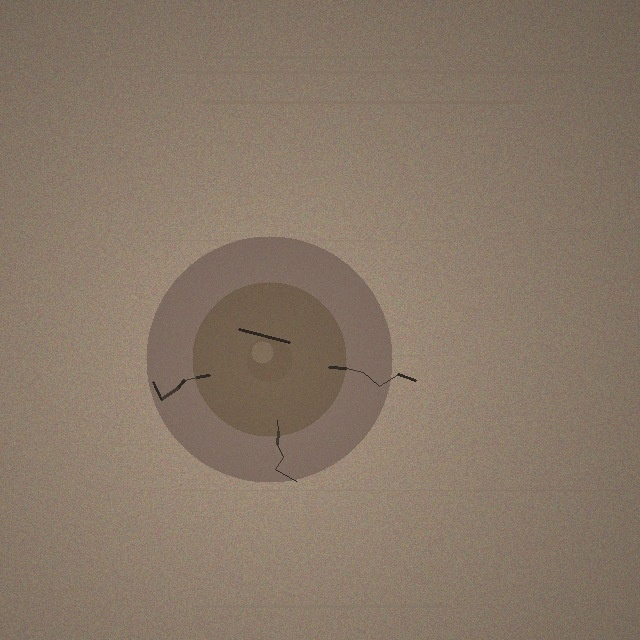crack: (146, 236, 392, 482)
